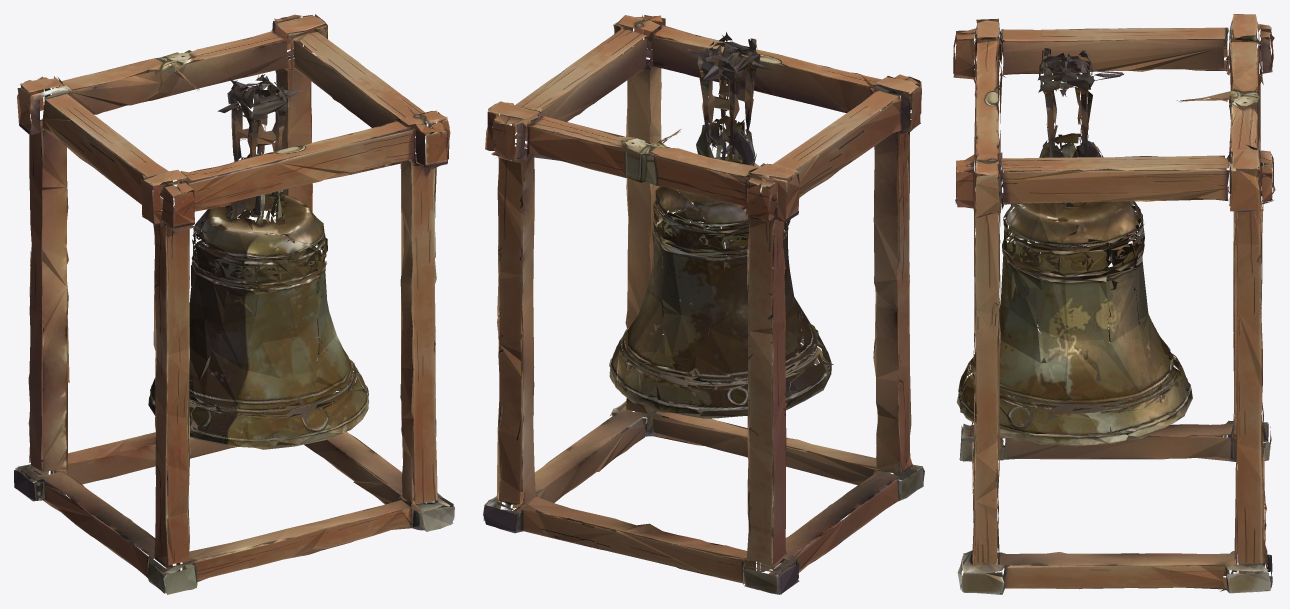
File: church_bell.glb
3 views of the same model, side by side, from view 1: azimuth 30°, elevation 25°; view 2: azimuth 150°, elevation 25°; view 3: azimuth 270°, elevation 25° (orthographic). The views are drawn at different scales.
Parts seen in each view (by area): view 1: world; view 2: world; view 3: world.
Boxes of the visible parts, bbox=[...] form: world: bbox=[14, 14, 454, 594]; world: bbox=[483, 15, 924, 594]; world: bbox=[953, 14, 1275, 594].
Bounding box in the file's own units: 1.41 × 2 × 1.25.
Materials: 1 (1 with a texture image).
